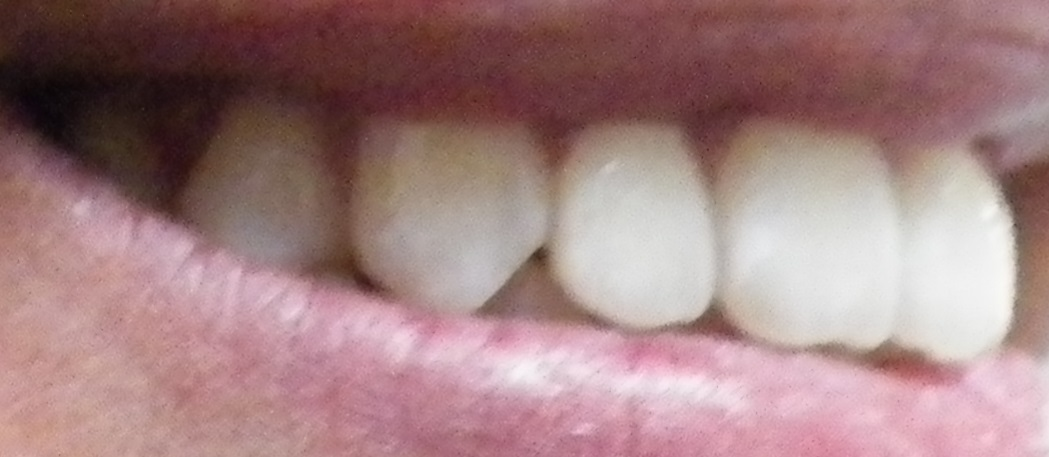boca: (30, 70, 1018, 384)
